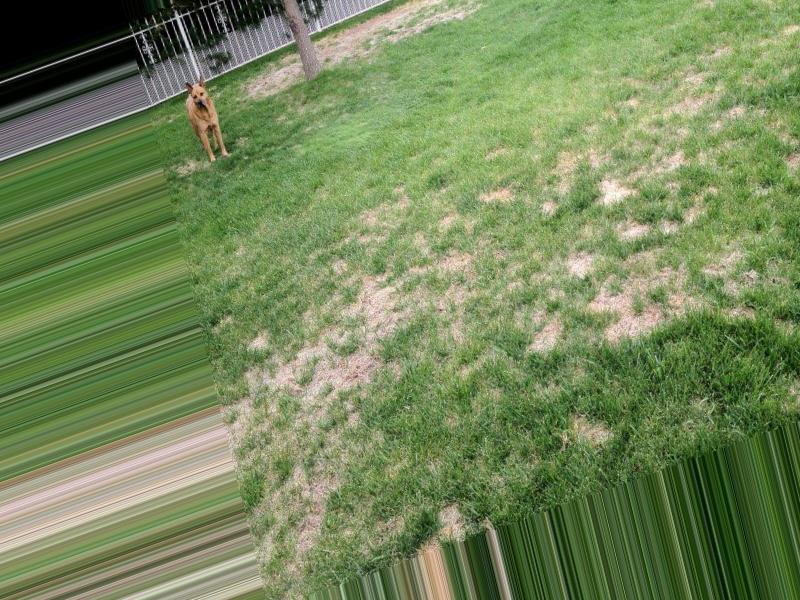patch: (262, 423, 337, 517), (369, 281, 416, 323), (595, 289, 636, 328), (325, 363, 365, 386), (598, 187, 625, 207)
